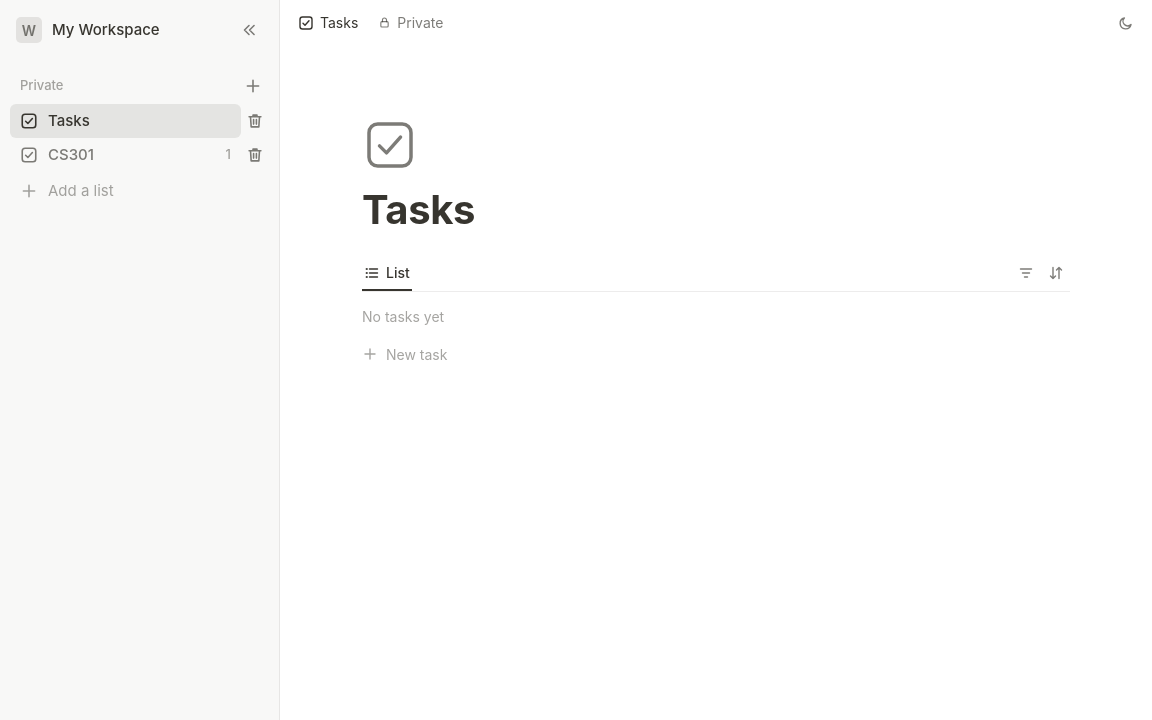
it: lists in the sidebar › deletes a list (and its tasks) with undo, moving to another list
Expected: the field labelled "New task" is shown, [386,342,1070,366]
Click the link "CS301 1": (71,154) [20,145,231,164]
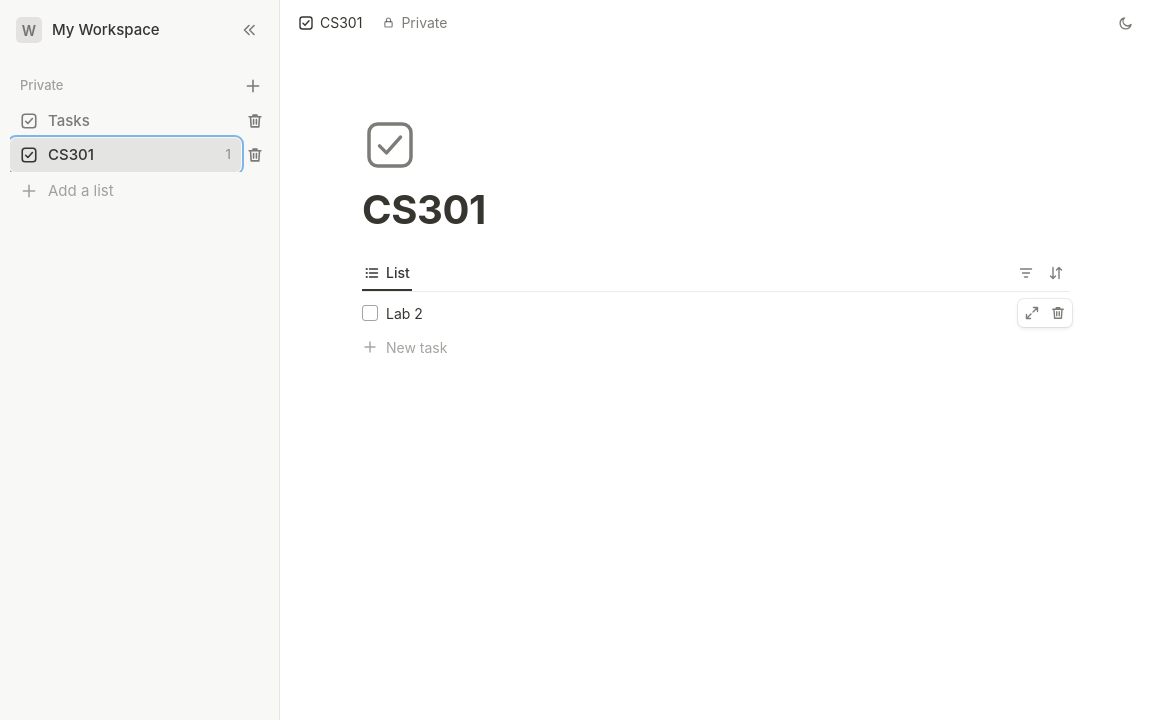
Expected: the button named "Edit title: Lab 2" is shown, [386,300,1062,326]
Click the button named "Delete list: CS301": (255,155) [241,141,269,169]
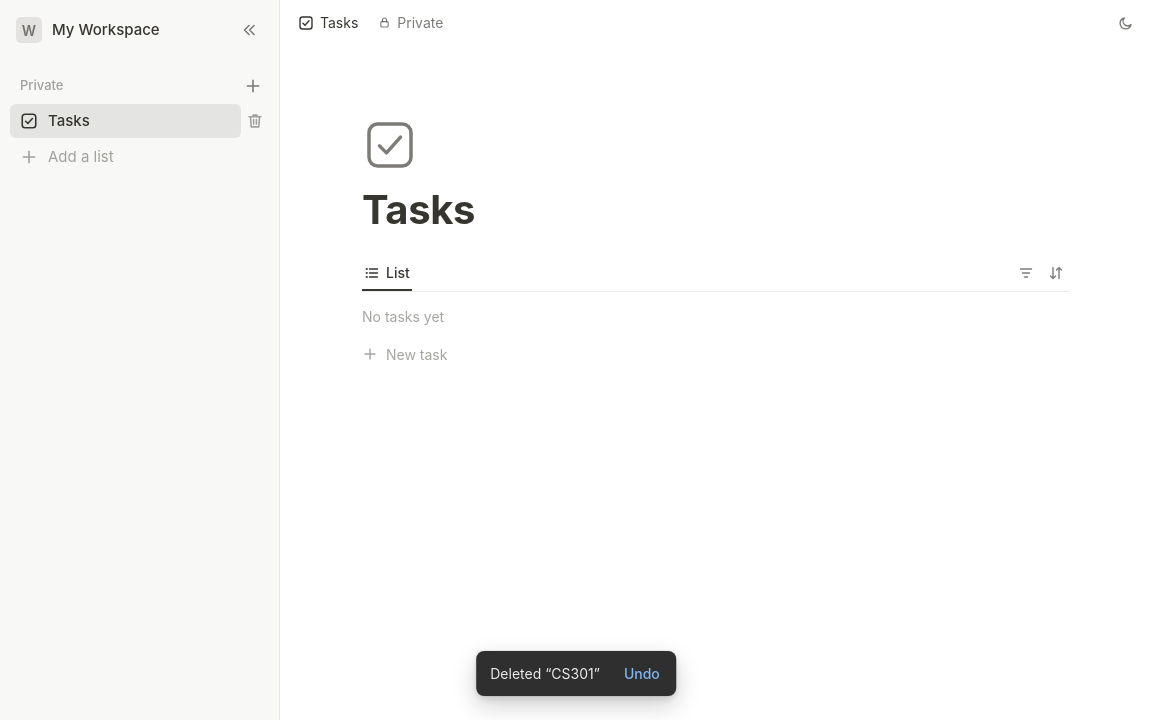
Expected: the field named "List name" holds "Tasks", [362,186,1070,234]
Expected: the message shows "Deleted “CS301”", [490,665,600,682]
Click the button "Undo": (642,674) [616,659,668,688]
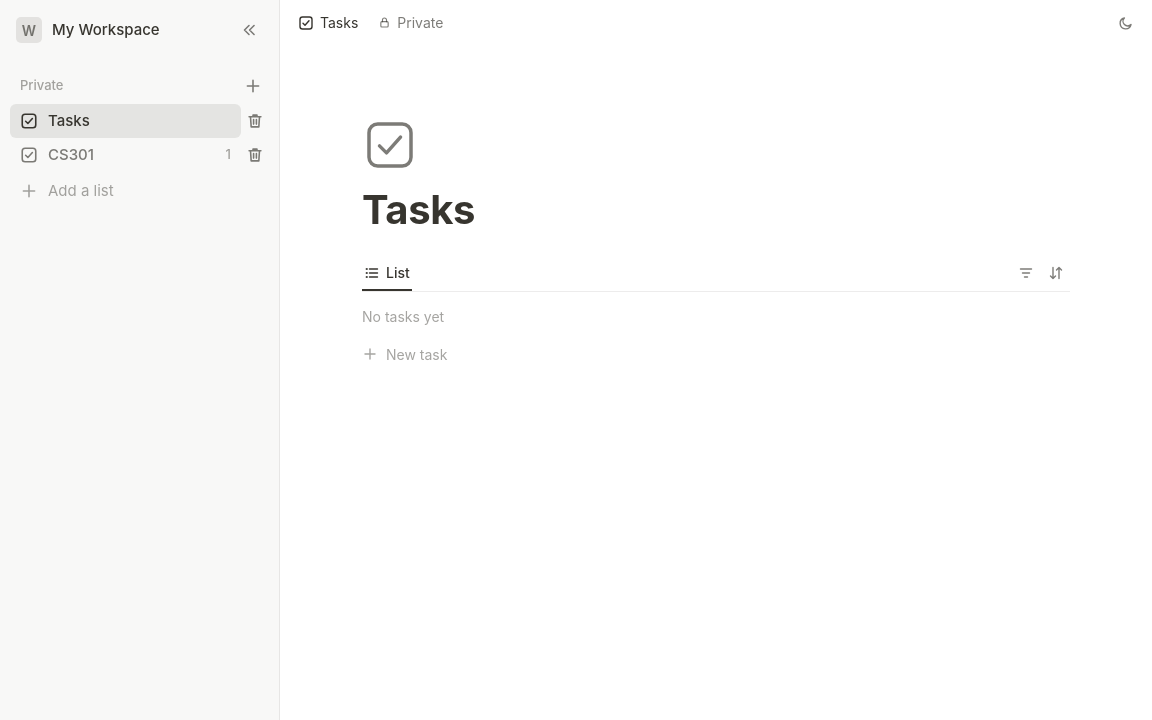
Expected: the link "CS301 1" is shown, [20,145,231,164]
